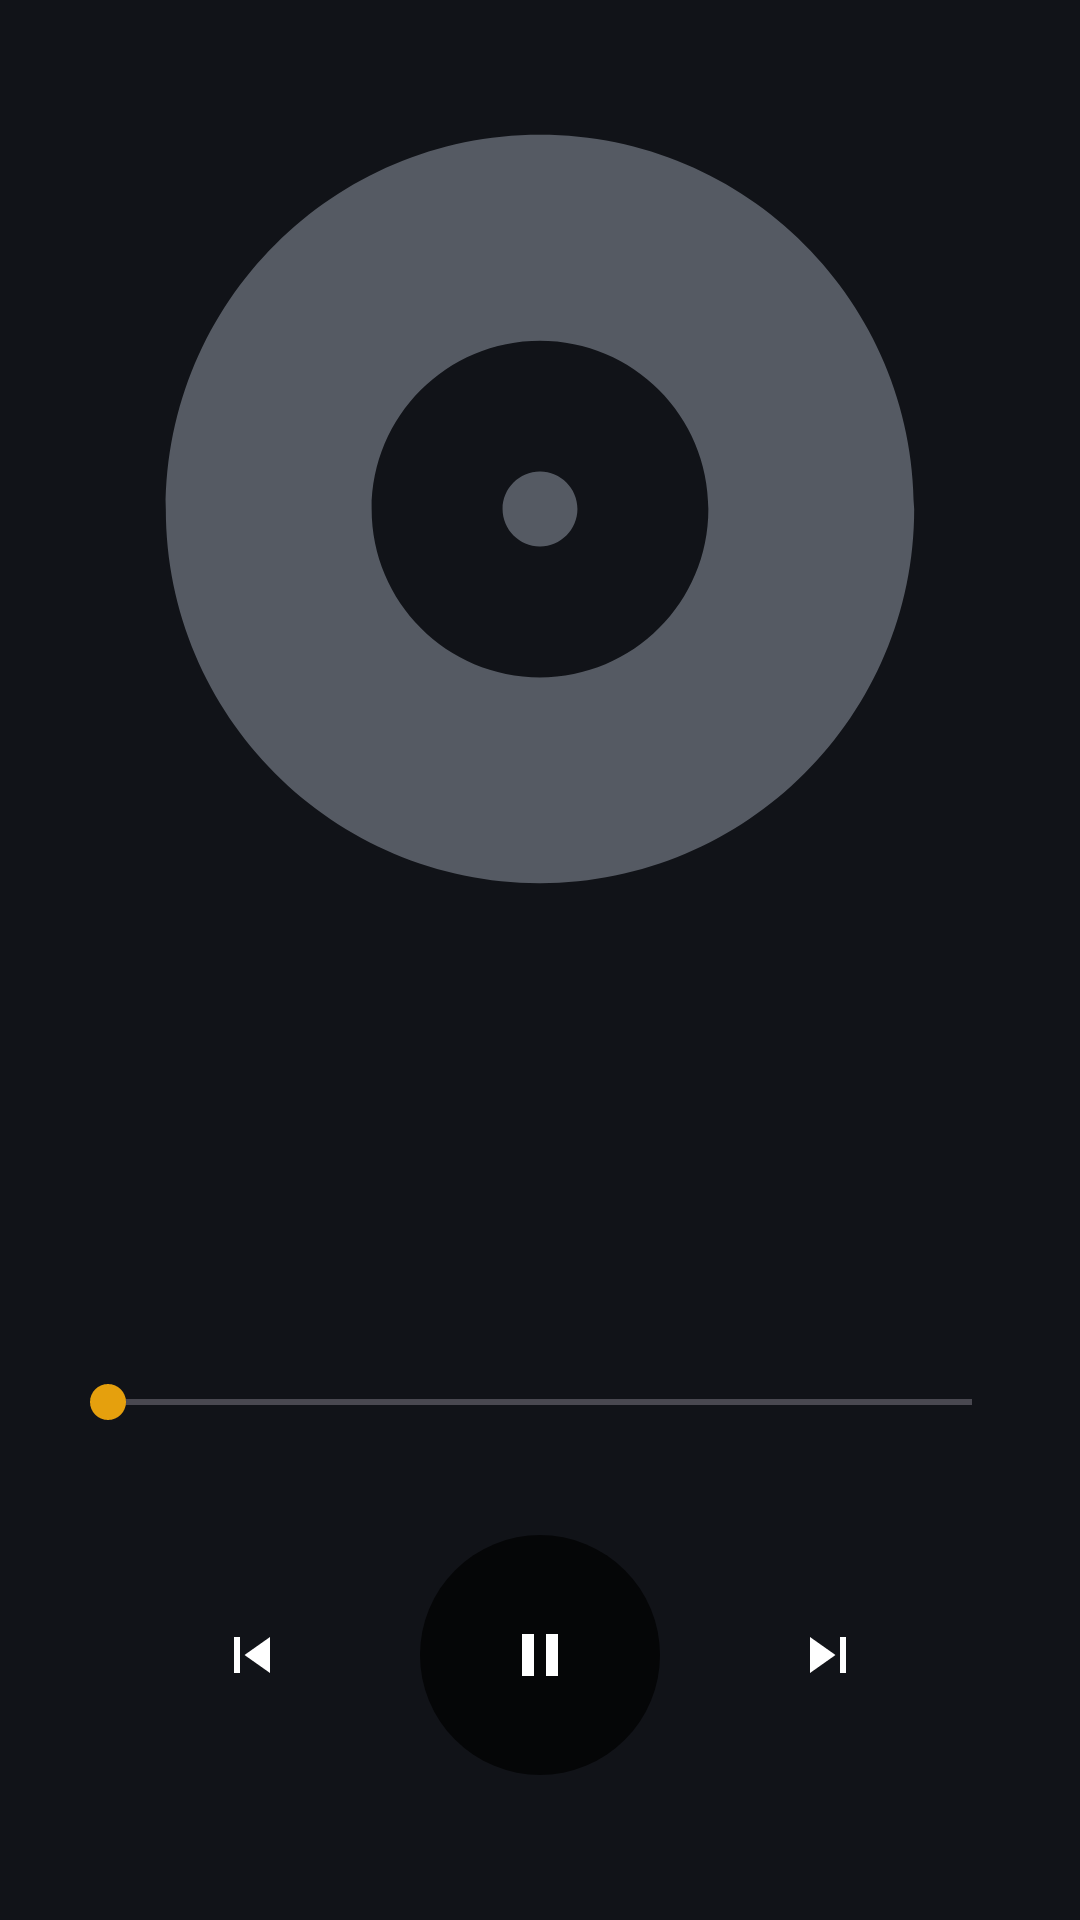

Icons on this 1080 x 1920 Android screen, each with the point to tap as point (x, y):
Next: point (828, 1655)
Play or pause: point (540, 1655)
Previous: point (252, 1655)
